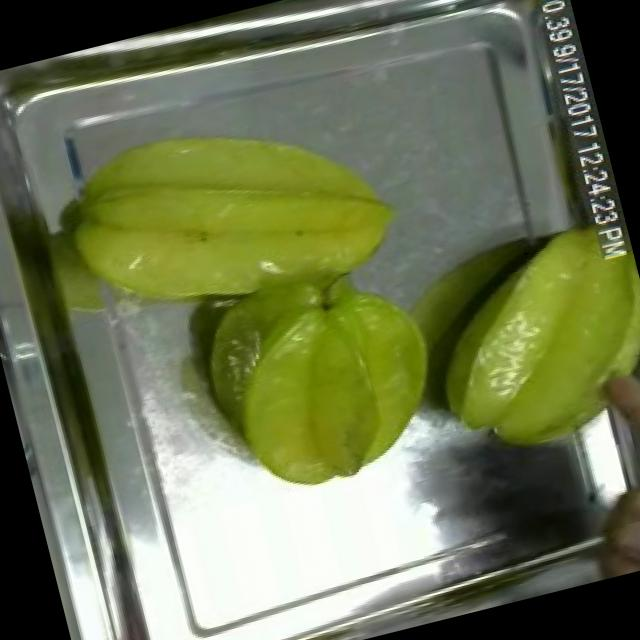fruit: (30, 69, 418, 353), (185, 248, 470, 516), (401, 204, 640, 478), (574, 460, 640, 581)
